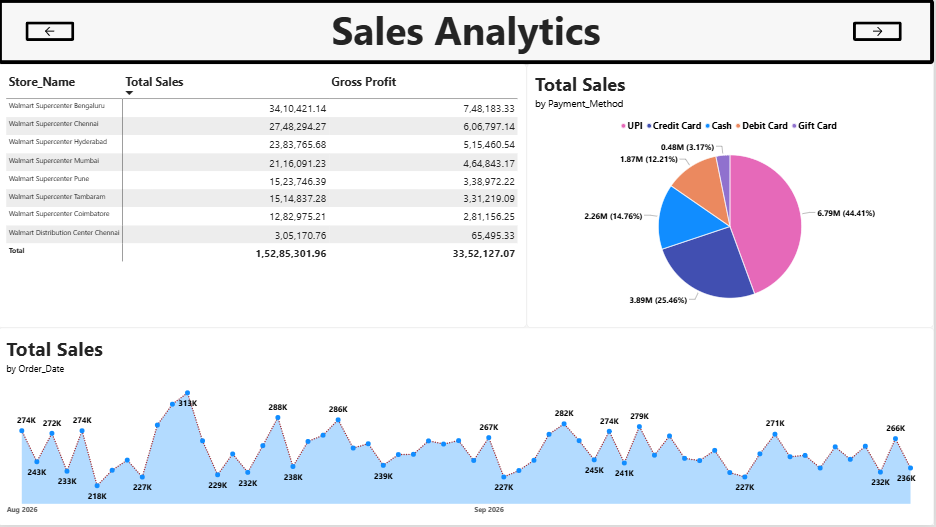

The dashboard page shown, as its layout file describes it:
{"tool":"powerbi","page":{"name":"Page 2","canvas":[1920,1080],"ordinal":1},"visuals":[{"type":"textbox","box":[0,0,1920.1,133.9],"z":0},{"type":"areaChart","fields":{"Category":["Sales_Orders.Order_Date"],"Y":["Sales_Orders.Total Sales"]},"box":[0,675,1920.1,405.4],"z":1},{"type":"pieChart","fields":{"Category":["Sales_Orders.Payment_Method"],"Y":["Sales_Orders.Total Sales"]},"box":[1084,133.9,834.3,541.1],"z":2},{"type":"pivotTable","fields":{"Rows":["Stores.Store_Name"],"Values":["Sales_Orders.Total Sales","Sales_Orders.Gross Profit"]},"box":[0,133.9,1084,541.1],"z":3},{"type":"actionButton","box":[1753.6,47.1,100,40],"z":4},{"type":"actionButton","box":[56.1,47.1,100,40],"z":5}]}

Visuals, with their boxes in screenshot pixels (x1, y1, x2, y2), scaled from the page's 1920x1080 canvas onto the 936x527 screenshot:
textbox: 0, 0, 935, 65
areaChart - Sales_Orders.Order_Date x Sales_Orders.Total Sales: 0, 329, 935, 526
pieChart - Sales_Orders.Payment_Method x Sales_Orders.Total Sales: 528, 65, 935, 329
pivotTable - Stores.Store_Name x Sales_Orders.Total Sales: 0, 65, 528, 329
actionButton: 855, 23, 904, 43
actionButton: 27, 23, 76, 43
